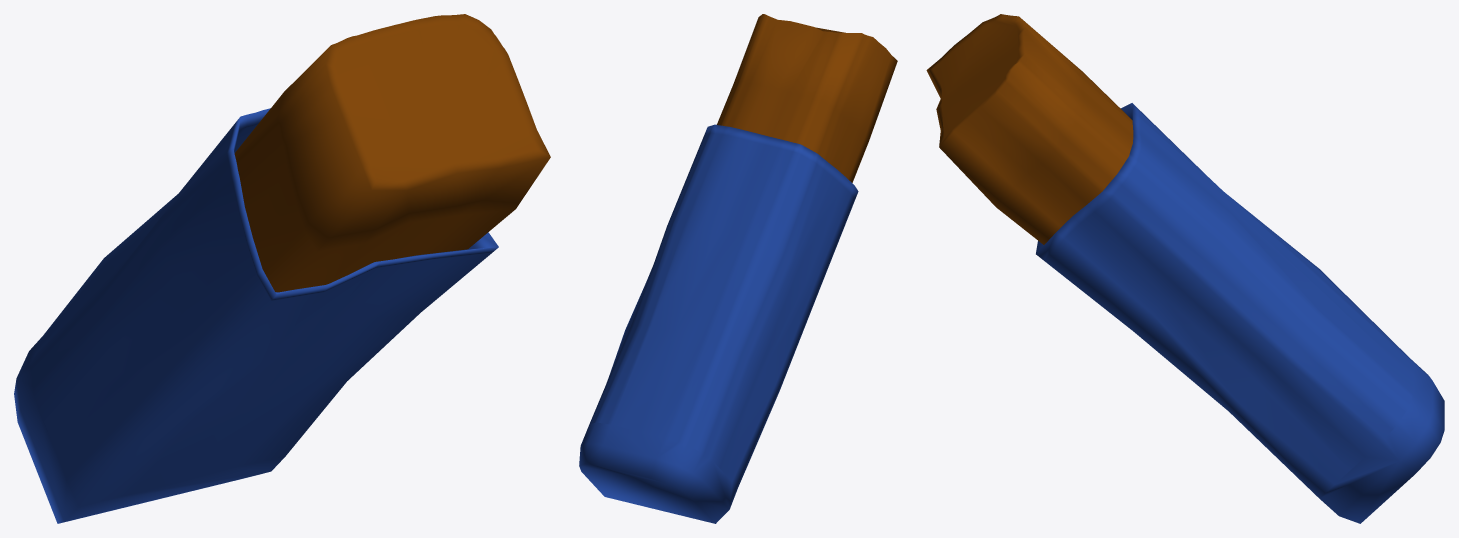
Rendered from snack.glb.
3 views of the same model, side by side, from view 1: azimuth 30°, elevation 25°; view 2: azimuth 150°, elevation 25°; view 3: azimuth 270°, elevation 25° (orthographic). The views are drawn at different scales.
Visible parts, largest first — view 1: Cube; view 2: Cube; view 3: Cube.
Boxes of the visible parts, x1,y1,x2,y2 form: Cube: (14, 14, 550, 523); Cube: (579, 14, 897, 523); Cube: (926, 14, 1444, 523).
Bounding box in the file's own units: 2.41 × 6.73 × 6.97.
